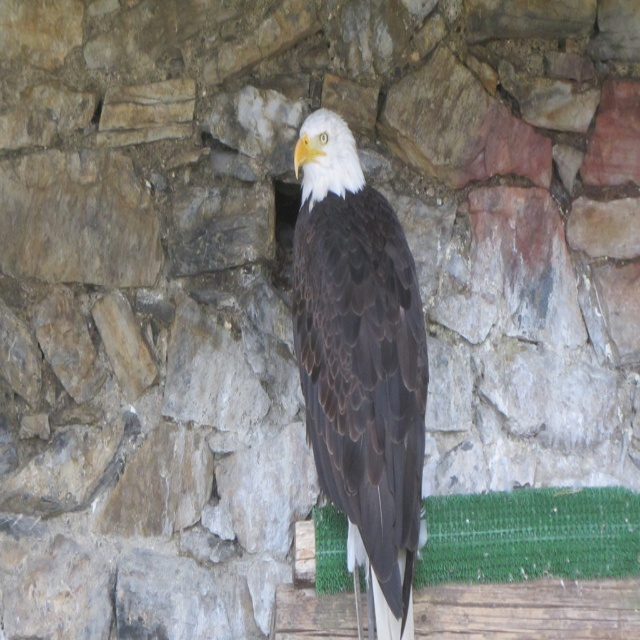Eagle: (292, 108, 431, 639)
